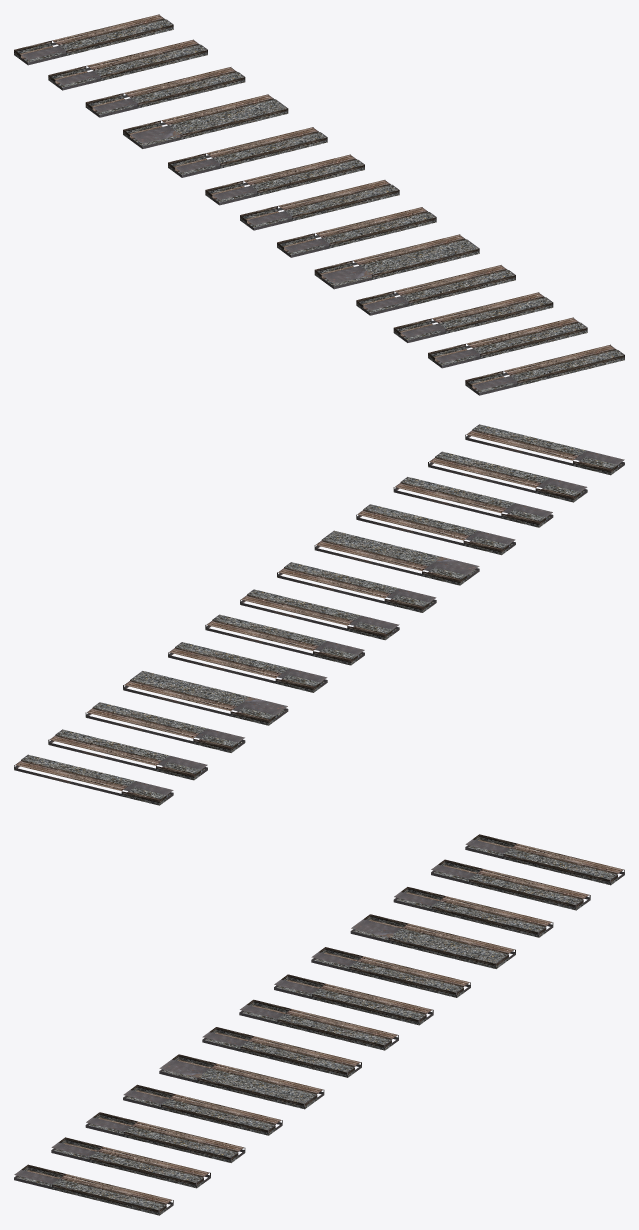
File: wood.obj
The picture shows the model from 3 angles, top to bottom: view 1: azimuth 30°, elevation 25°; view 2: azimuth 150°, elevation 25°; view 3: azimuth 330°, elevation 25°; orthographic projection.
Parts seen in each view (by area): view 1: box.006_ID652, box.011_ID1237, box.013_ID1255, box_ID48, box.007_ID661, box.005_ID643, box.014_ID1297, box.003_ID80, box.010_ID1228, box.009_ID712, box.012_ID1246, box.002_ID71 (+1 smaller); view 2: box.011_ID1237, box.006_ID652, box.013_ID1255, box_ID48, box.007_ID661, box.012_ID1246, box.009_ID712, box.005_ID643, box.014_ID1297, box.002_ID71, box.008_ID670, box.003_ID80 (+1 smaller); view 3: box.011_ID1237, box.006_ID652, box.013_ID1255, box_ID48, box.007_ID661, box.009_ID712, box.014_ID1297, box.003_ID80, box.008_ID670, box.010_ID1228, box.005_ID643, box.002_ID71 (+1 smaller).
Boxes of the visible parts, box(x1,y1,x2,y2) form: box.006_ID652: box(123, 94, 288, 148); box.011_ID1237: box(314, 234, 479, 289); box.013_ID1255: box(85, 67, 245, 117); box_ID48: box(393, 292, 553, 342); box.007_ID661: box(48, 39, 207, 90); box.005_ID643: box(14, 14, 173, 65); box.014_ID1297: box(168, 127, 327, 177); box.003_ID80: box(465, 344, 624, 395); box.010_ID1228: box(205, 154, 364, 205); box.009_ID712: box(356, 265, 515, 315); box.012_ID1246: box(428, 317, 587, 368); box.002_ID71: box(240, 180, 399, 230); box.011_ID1237: box(314, 530, 479, 585); box.006_ID652: box(123, 671, 288, 725); box.013_ID1255: box(85, 702, 245, 752); box_ID48: box(393, 477, 553, 527); box.007_ID661: box(48, 729, 207, 780); box.012_ID1246: box(428, 451, 587, 502); box.009_ID712: box(356, 504, 515, 555); box.005_ID643: box(14, 754, 173, 805); box.014_ID1297: box(168, 642, 327, 692); box.002_ID71: box(240, 589, 399, 640); box.008_ID670: box(277, 562, 436, 612); box.003_ID80: box(465, 424, 624, 475); box.011_ID1237: box(159, 1054, 324, 1109); box.006_ID652: box(350, 914, 515, 968); box.013_ID1255: box(393, 887, 553, 937); box_ID48: box(85, 1112, 245, 1162); box.007_ID661: box(431, 859, 590, 910); box.009_ID712: box(123, 1084, 282, 1135); box.014_ID1297: box(311, 947, 470, 997); box.003_ID80: box(14, 1164, 173, 1215); box.008_ID670: box(202, 1027, 361, 1077); box.010_ID1228: box(274, 974, 433, 1025); box.005_ID643: box(465, 834, 624, 885); box.002_ID71: box(239, 999, 398, 1050).
Size of the model in its own units: 2.07 by 0.0717 by 11.44.
